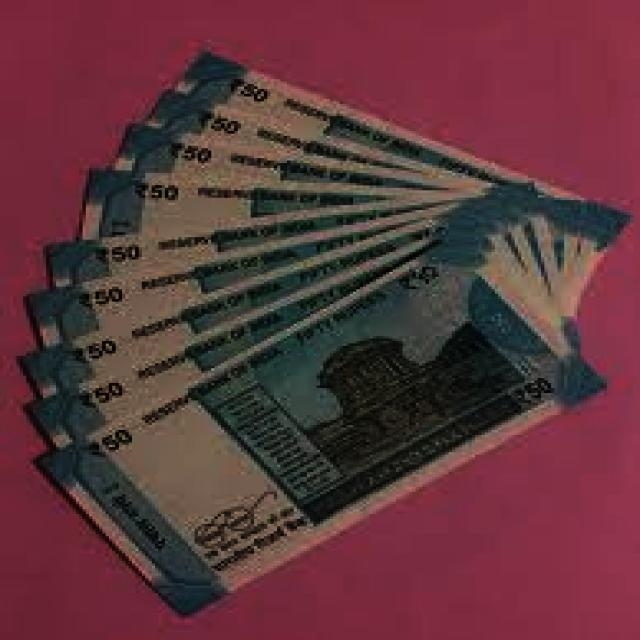50rs: (29, 356, 564, 622), (99, 133, 590, 304), (48, 242, 579, 386), (186, 52, 571, 199)
